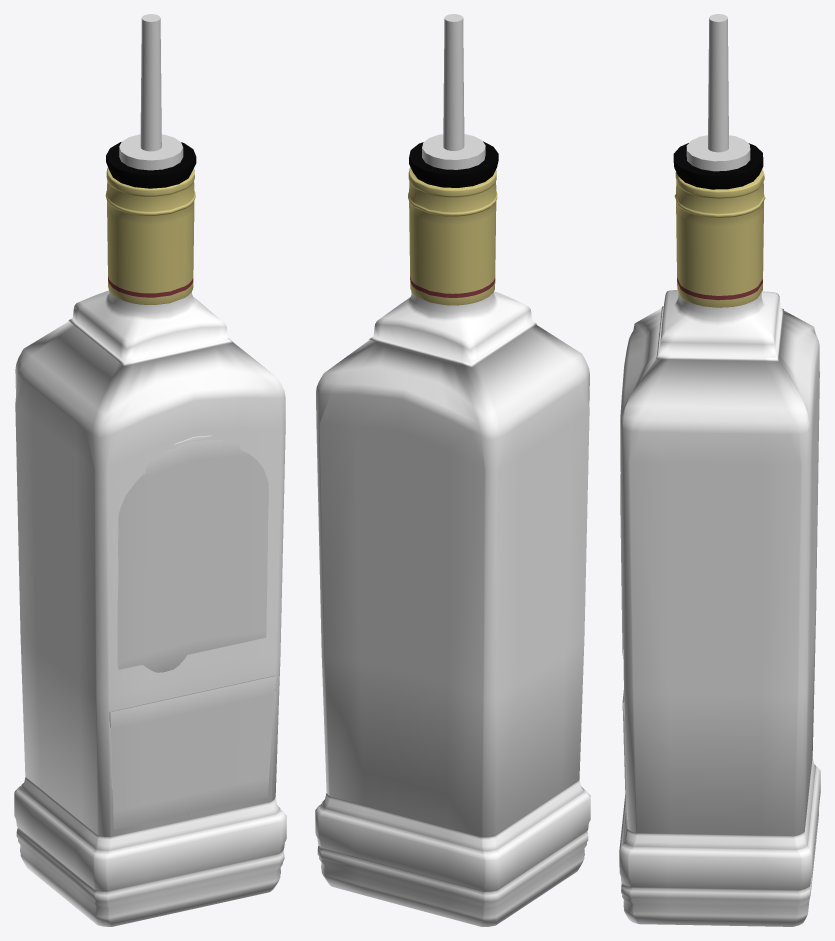
The model's file is Tequila.fbx.
3 views of the same model, side by side, from view 1: azimuth 30°, elevation 25°; view 2: azimuth 150°, elevation 25°; view 3: azimuth 270°, elevation 25° (orthographic).
Visible parts, largest first — view 1: GarrafaTequila.001, TequilaRotulo.001, bottle_outside.007; view 2: GarrafaTequila.001, bottle_outside.007; view 3: GarrafaTequila.001, bottle_outside.007, TequilaRotulo.001.
Boxes of the visible parts, bbox=[...] form: GarrafaTequila.001: bbox=[14, 167, 286, 926]; TequilaRotulo.001: bbox=[109, 435, 276, 829]; bottle_outside.007: bbox=[106, 14, 196, 188]; GarrafaTequila.001: bbox=[315, 168, 590, 926]; bottle_outside.007: bbox=[409, 14, 498, 187]; GarrafaTequila.001: bbox=[619, 169, 820, 926]; bottle_outside.007: bbox=[673, 14, 763, 189]; TequilaRotulo.001: bbox=[620, 474, 626, 819].
Size of the model in its own units: 7.56 by 31.94 by 6.71.
